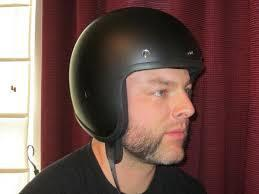helmet: (68, 6, 206, 165)
